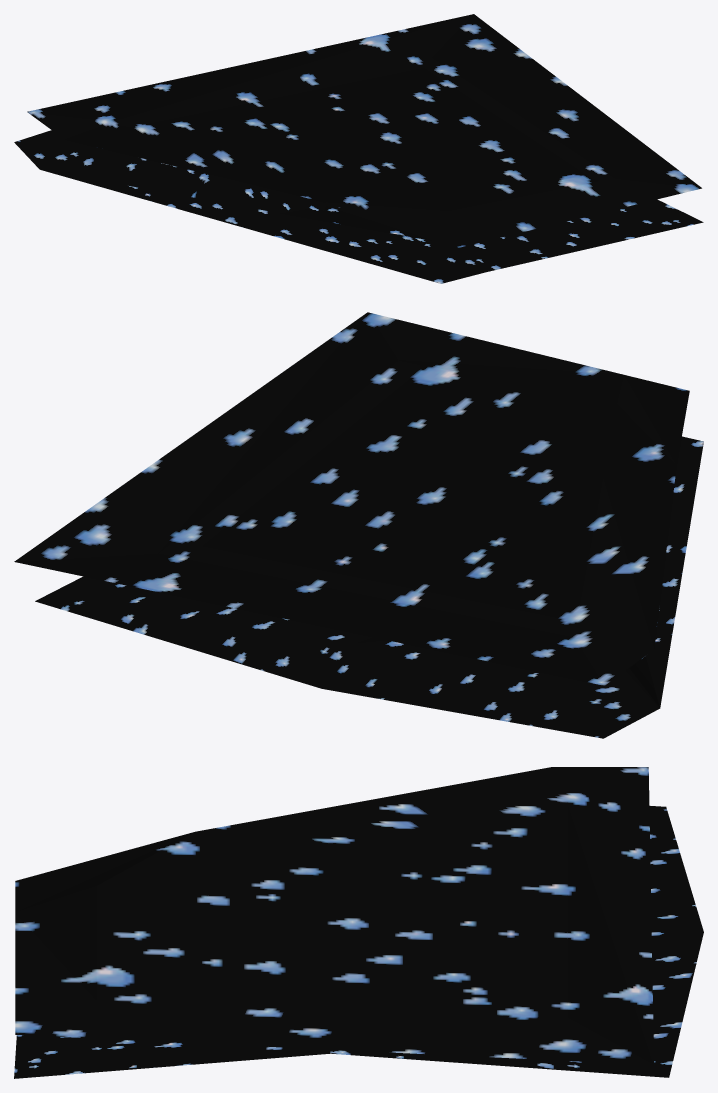
3 views of the same model, one above another, from view 1: azimuth 30°, elevation 25°; view 2: azimuth 150°, elevation 25°; view 3: azimuth 270°, elevation 25° (orthographic). The views are drawn at different scales.
Visible parts, largest first — view 1: 26786; view 2: 26786; view 3: 26786.
Boxes of the visible parts, <box> form: 26786: <box>14,14,703,283</box>; 26786: <box>14,312,703,738</box>; 26786: <box>14,767,703,1078</box>.
Bounding box in the file's own units: 1.62 × 0.2241 × 1.63.
1 material, 1 textured.
